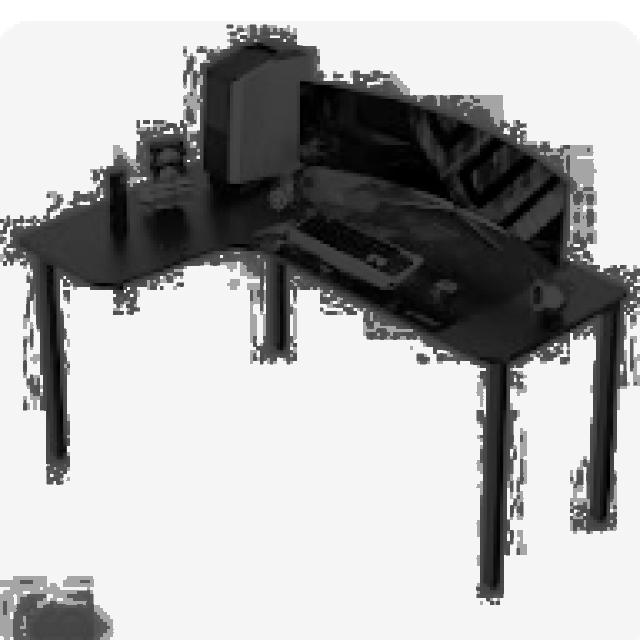table: (13, 148, 627, 590)
